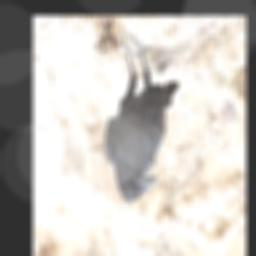Crow: (105, 36, 179, 203)
